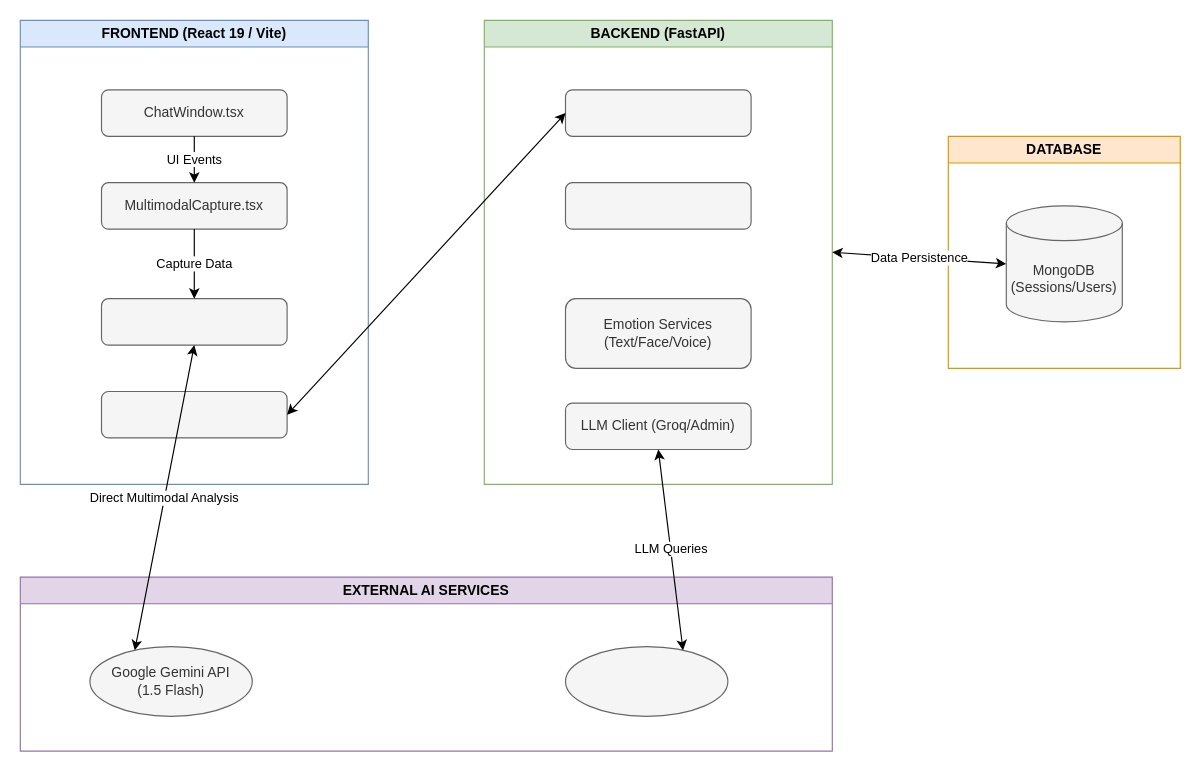
Image size: 1201x771. Some labels were removed from this diagram. The shapes that lost their labels are listed below. From the top down, each one's centre as x and y in pixels, then its label:
At point (657, 112): "API Endpoints (v1)".
At point (657, 205): "Pipeline / Fusion".
At point (193, 321): "geminiService.ts".
At point (193, 414): "cloudService / API Utils".
At point (646, 681): "Groq / OpenRouter".
